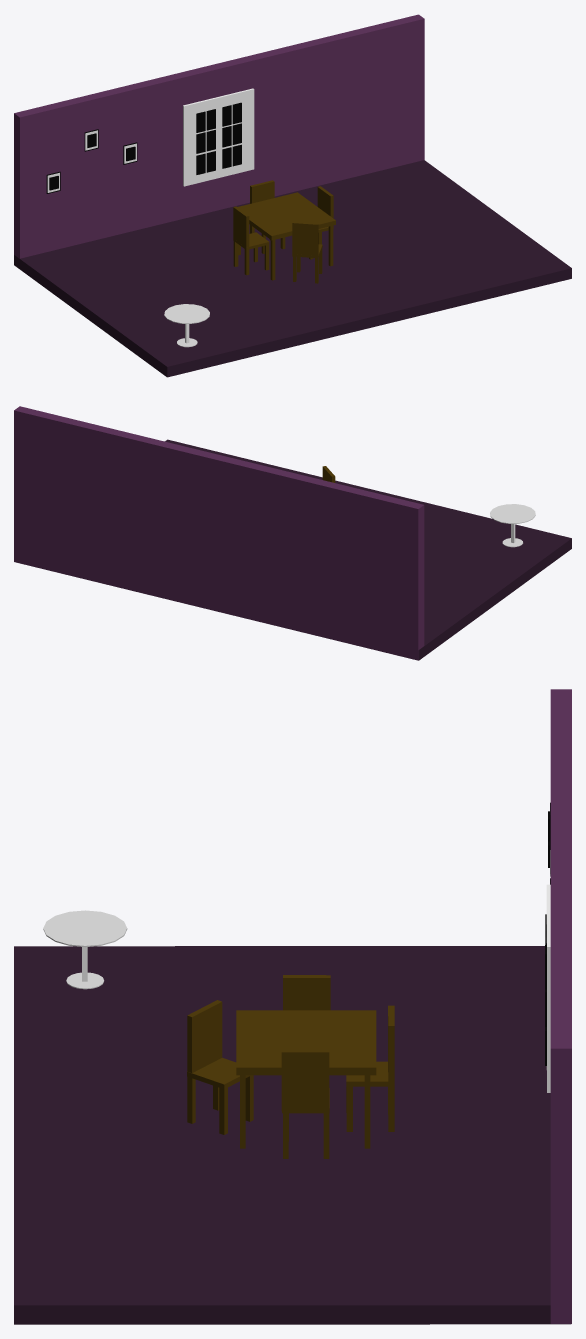
File: dining_room.fbx
3 views of the same model, one above another, from view 1: azimuth 30°, elevation 25°; view 2: azimuth 150°, elevation 25°; view 3: azimuth 270°, elevation 25° (orthographic). The views are drawn at different scales.
Parts seen in each view (by area): view 1: Cube_1_2, Cube, Cube_40, Cube_1, Cube_17, Cylinder_1, Cube_23, Cube_29; view 2: Cube, Cube_1_2, Cylinder_1; view 3: Cube_1_2, Cube, Cube_1, Cube_11, Cylinder_1, Cube_17, Cube_23, Cube_16, Cube_40.
Boxes of the visible parts, <box> form: Cube_1_2: <box>14,160,571,377</box>; Cube: <box>14,14,424,258</box>; Cube_40: <box>183,88,254,186</box>; Cube_1: <box>237,192,335,240</box>; Cube_17: <box>292,221,318,255</box>; Cylinder_1: <box>164,304,209,323</box>; Cube_23: <box>233,206,249,247</box>; Cube_29: <box>250,180,274,203</box>; Cube: <box>14,406,424,660</box>; Cube_1_2: <box>24,439,571,660</box>; Cylinder_1: <box>490,504,535,523</box>; Cube_1_2: <box>14,946,570,1324</box>; Cube: <box>550,689,571,1323</box>; Cube_1: <box>236,1010,376,1075</box>; Cube_11: <box>281,1049,329,1110</box>; Cylinder_1: <box>43,910,127,947</box>; Cube_17: <box>187,1000,222,1072</box>; Cube_23: <box>283,975,330,1010</box>; Cube_16: <box>187,1057,250,1089</box>; Cube_40: <box>546,884,550,1092</box>.
Bounding box in the file's own units: 1095 × 393 × 718.
